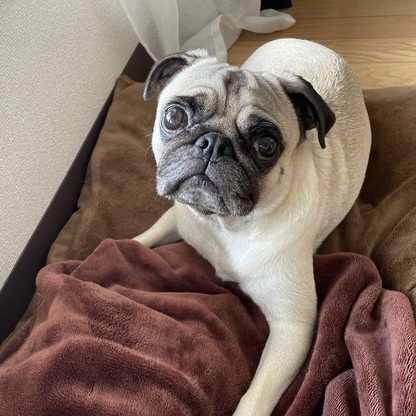Pug: (121, 30, 380, 416)
